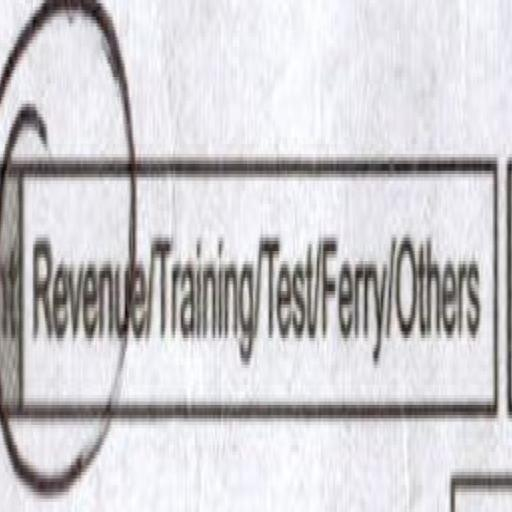check: (24, 11, 152, 512)
